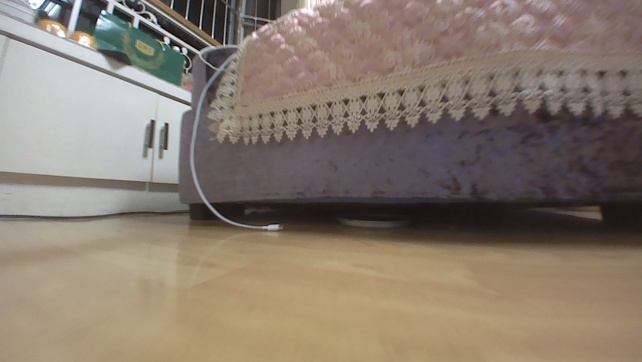sofa1: (170, 0, 641, 224)
wire: (185, 53, 286, 234)
